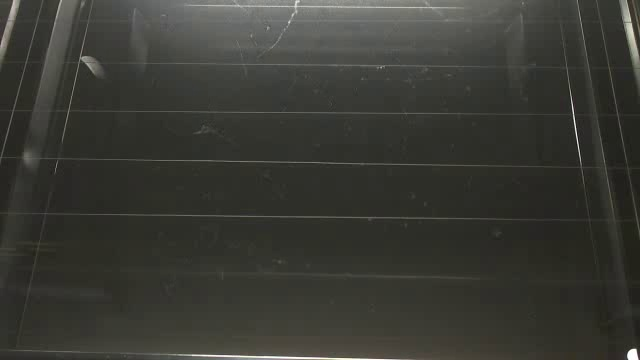Alfa: (78, 54, 108, 81)
